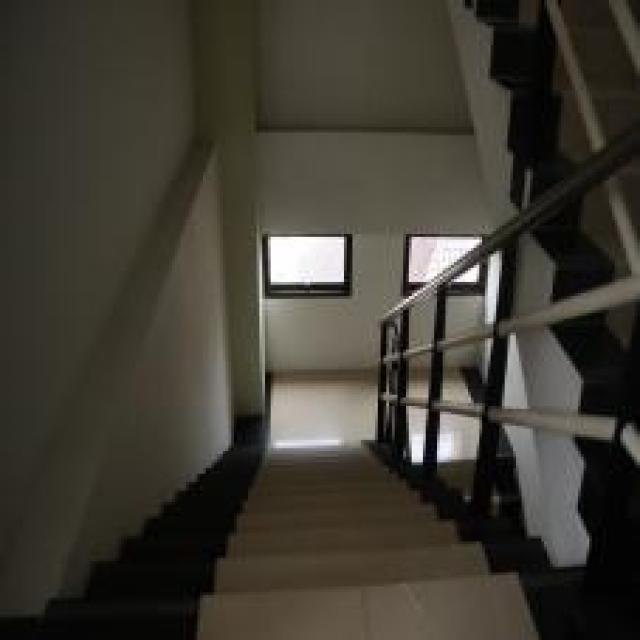downstair: (212, 472, 441, 638)
